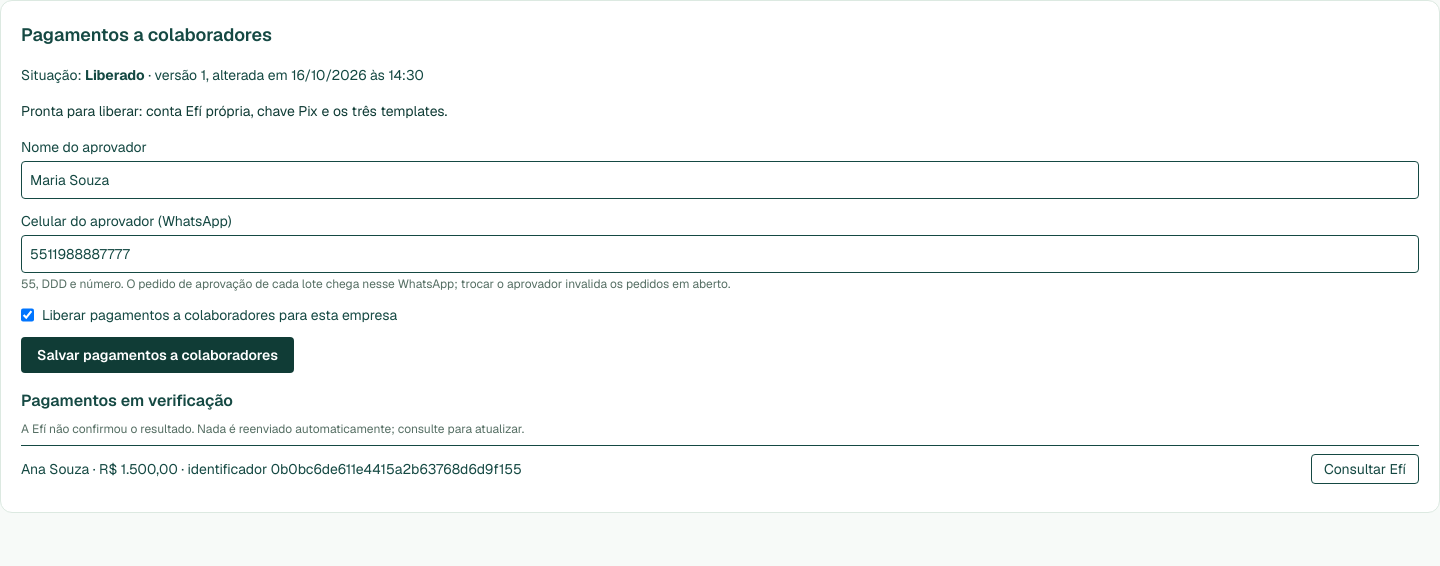
Test case: DisbursementSettings › checks a payment under verification at Efí
Click the button "Consultar Efí": (1365, 469) [1311,454,1419,484]
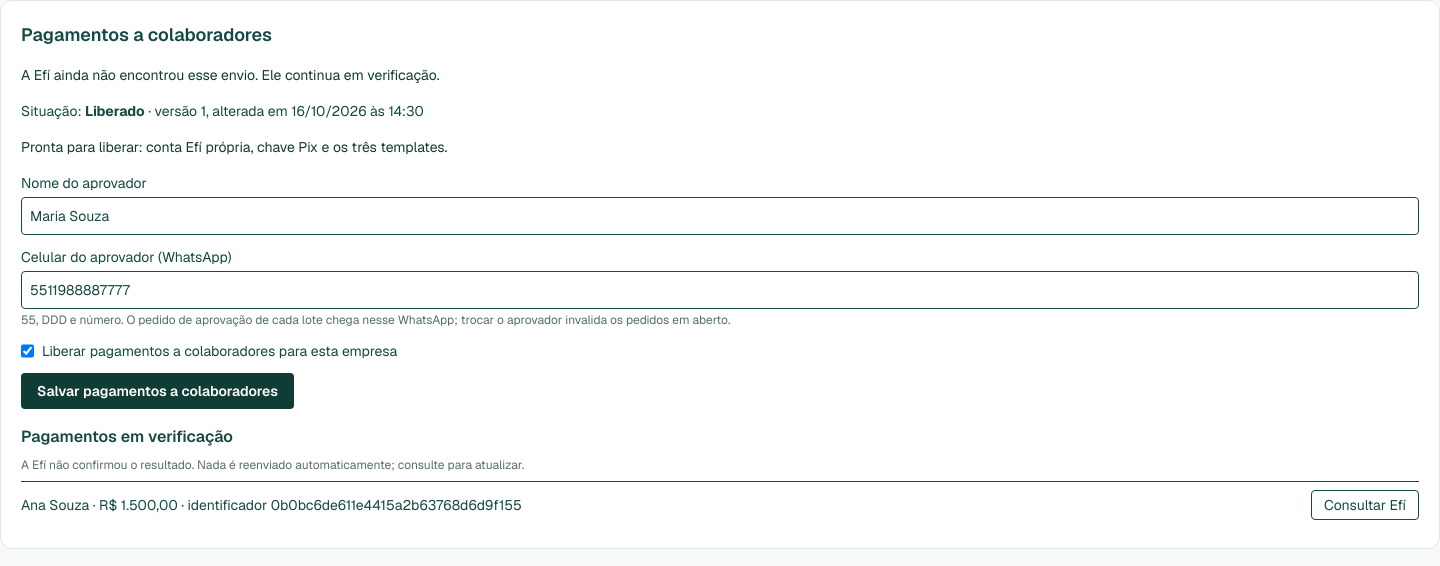
Expected: the message shows "A Efí ainda não encontrou esse envio", [21,66,440,84]
